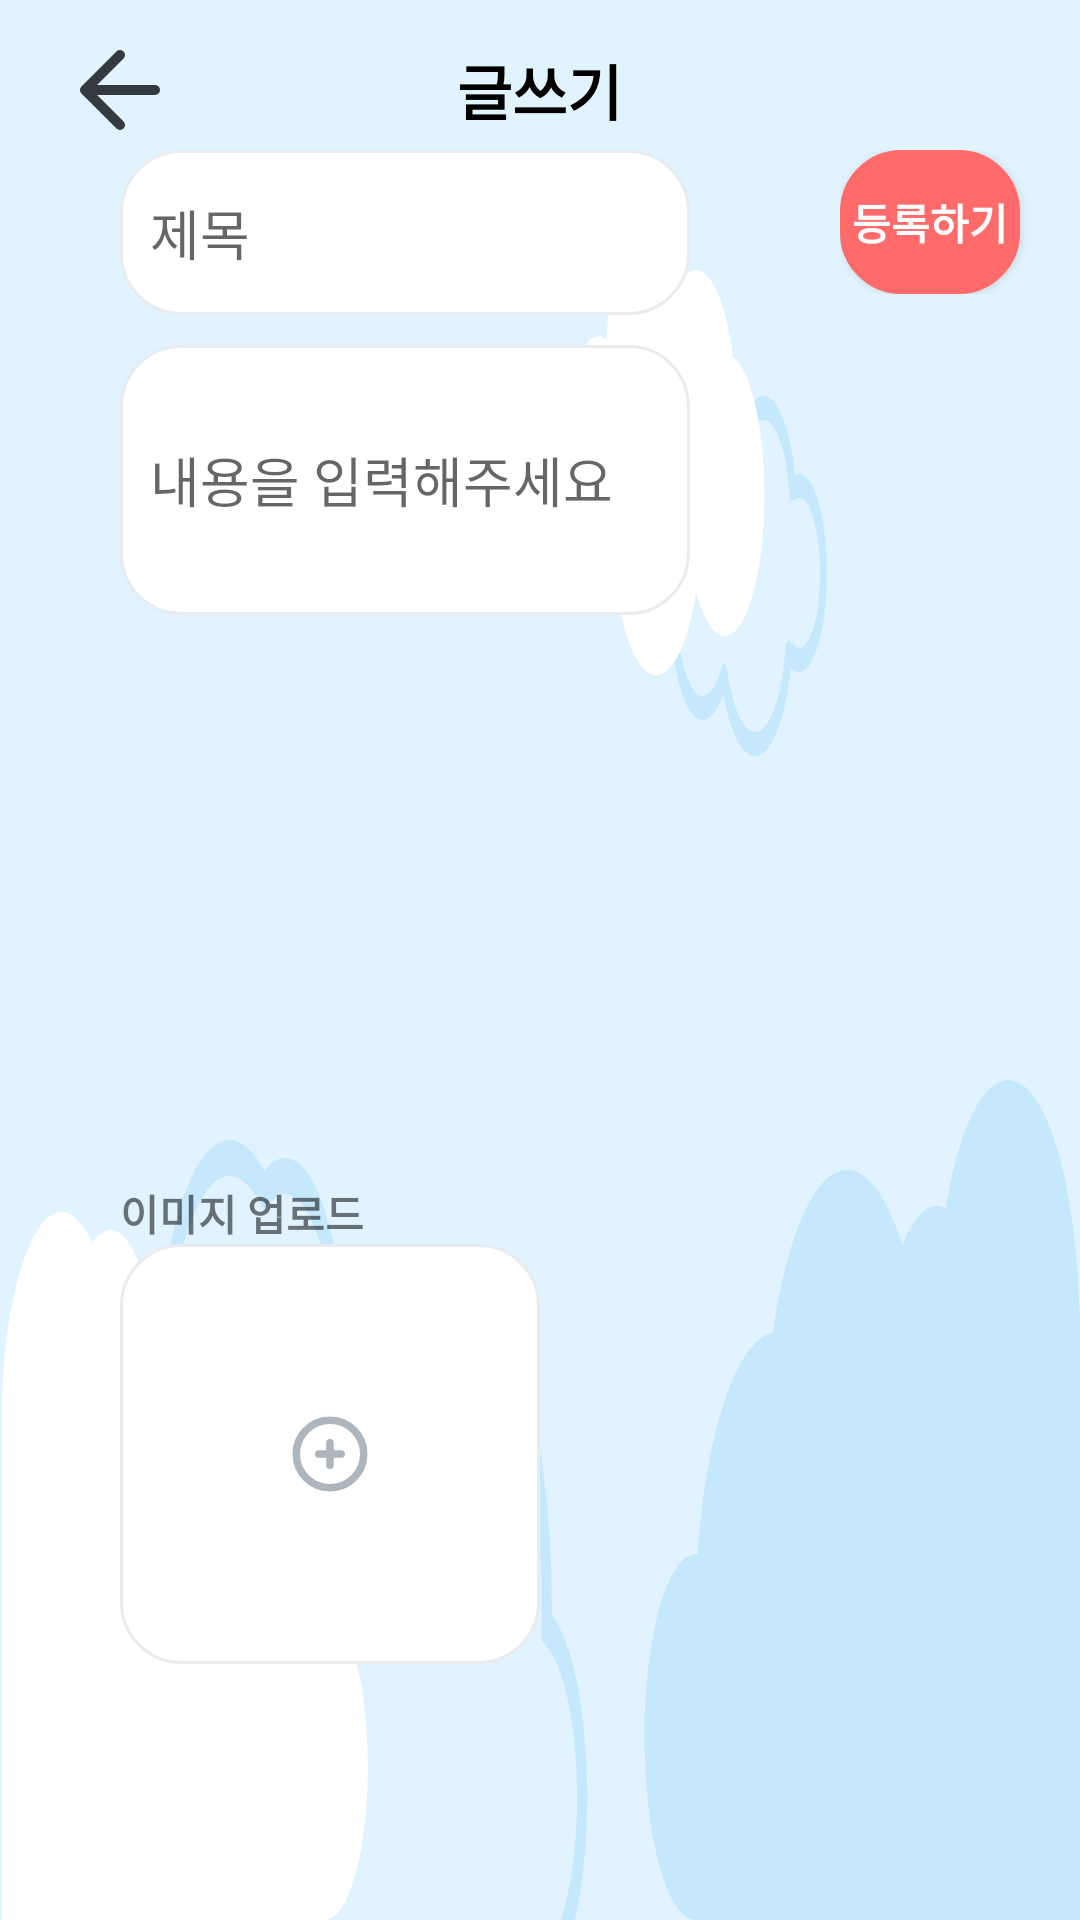

Point at icon controls on the screen. Image size 1080 × 1920, points as point (x, y).
add: point (330, 1454)
left: point (120, 90)
